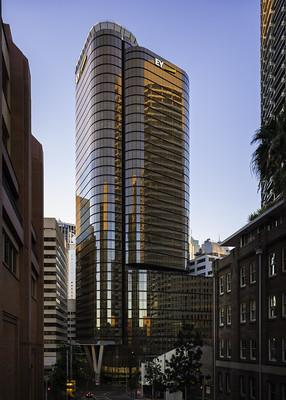building: (70, 15, 196, 400)
